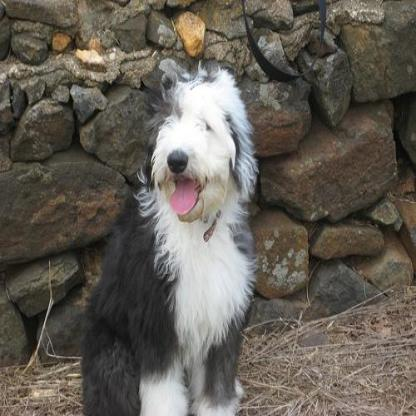Old_English_sheepdog: (77, 57, 256, 414)
